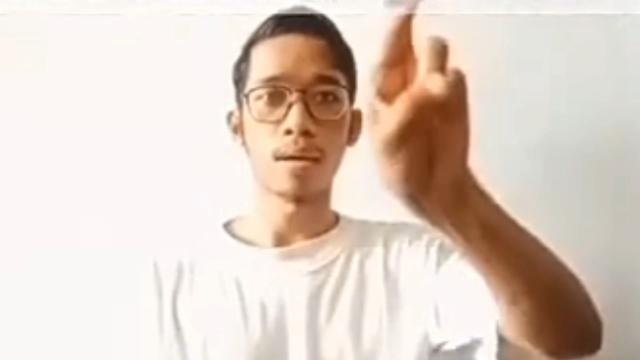R: (354, 0, 490, 206)
